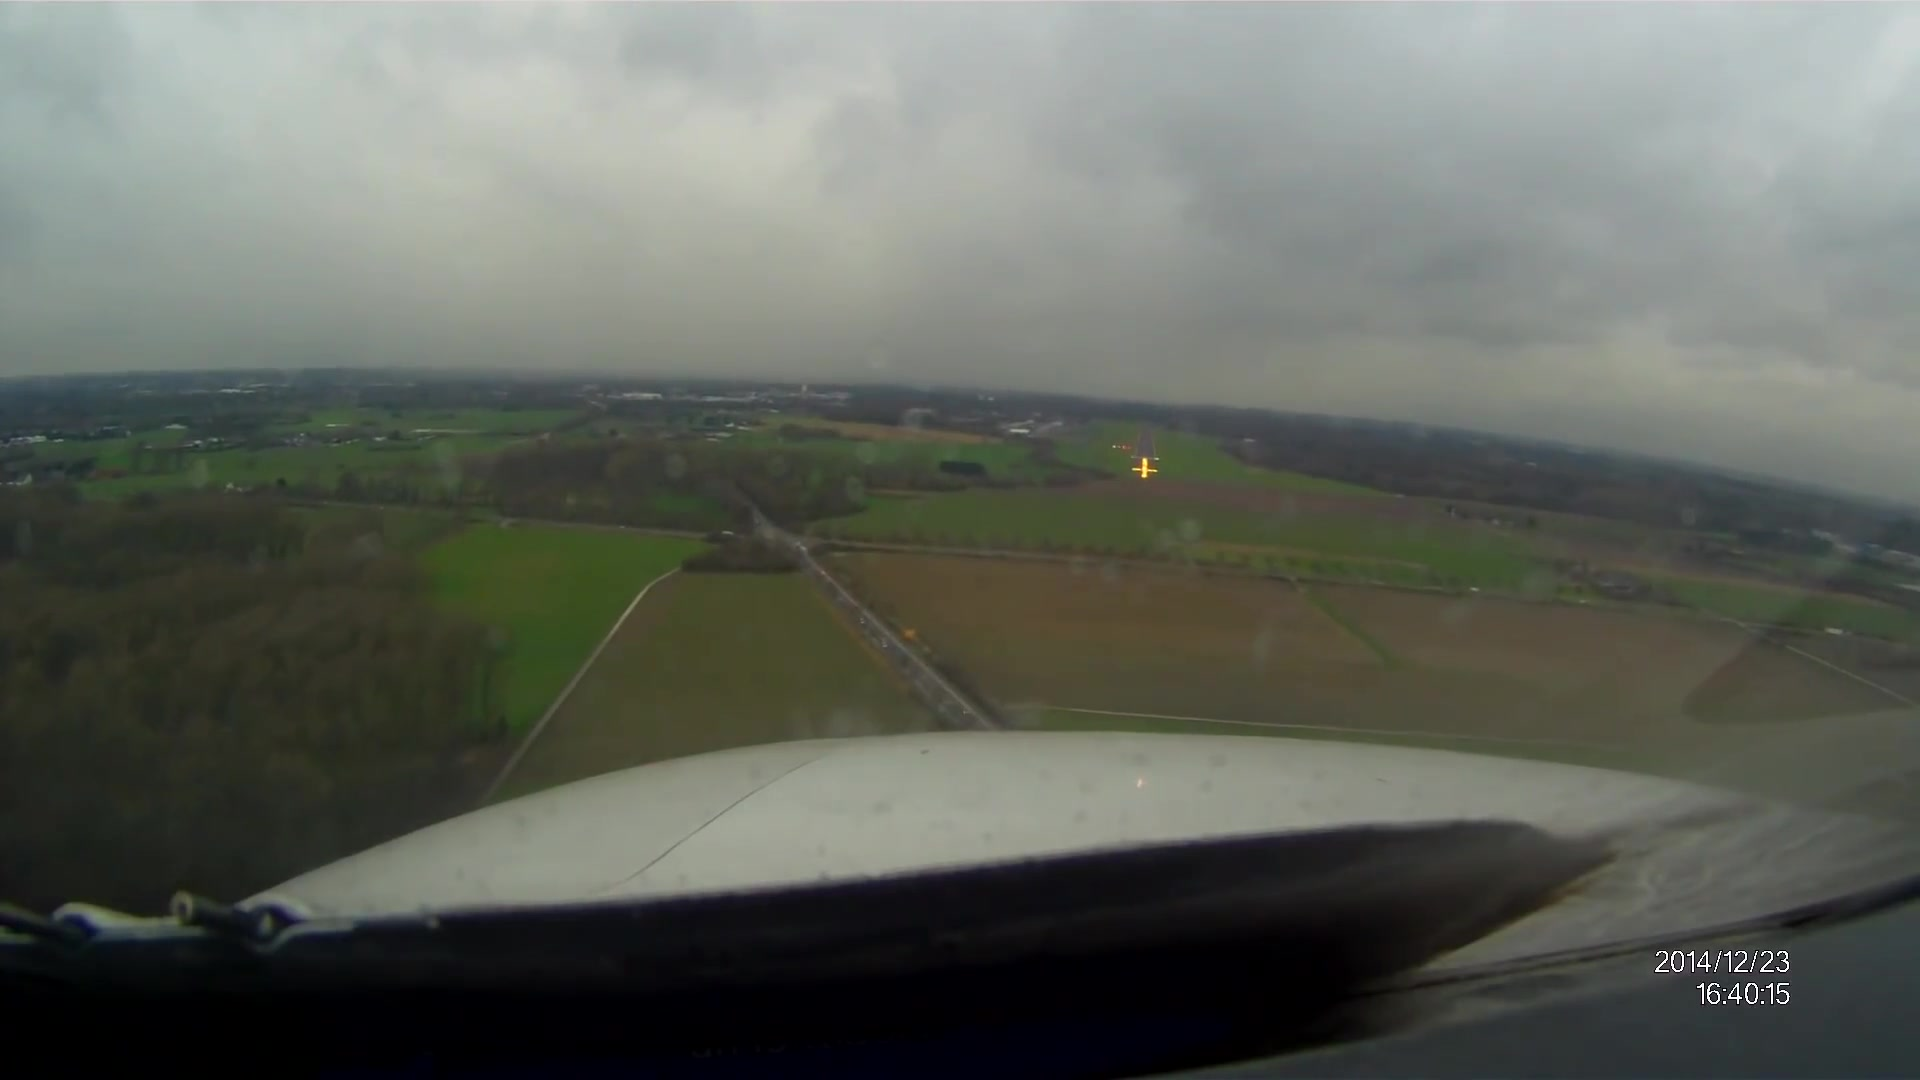runway: (1130, 422, 1158, 477)
